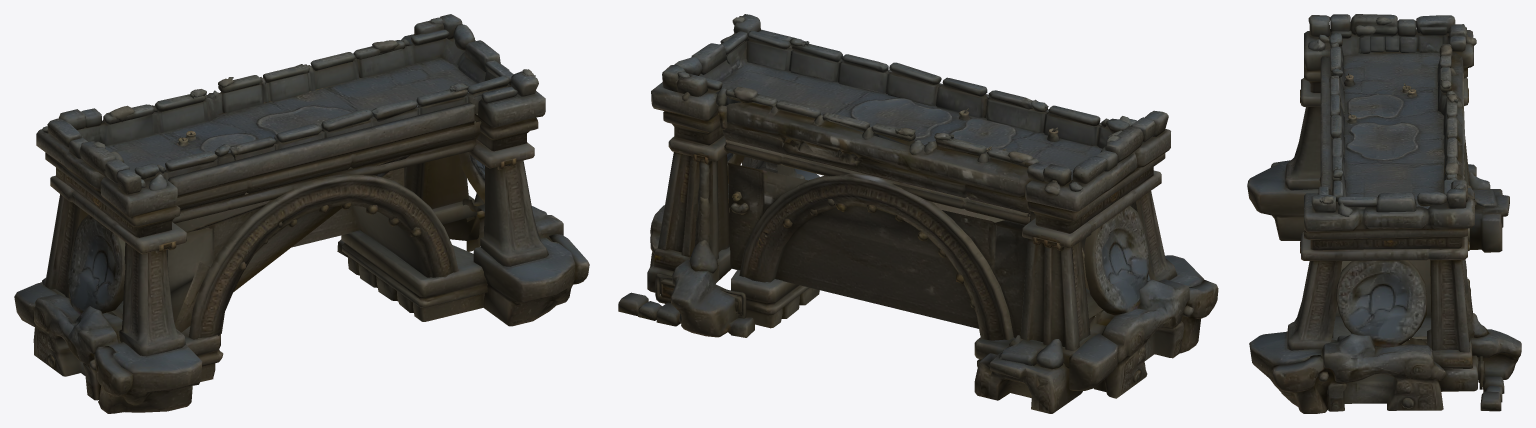
Rendered from ch3_massive_bridge_section_LOD0.glb.
3 renders of one model, left to right at view 1: azimuth 30°, elevation 25°; view 2: azimuth 150°, elevation 25°; view 3: azimuth 270°, elevation 25°, orthographic. The views are drawn at different scales.
Visible parts, largest first — view 1: tripo_node_51e6d6be-b1e7-401e-8ef0-a97a538cec37; view 2: tripo_node_51e6d6be-b1e7-401e-8ef0-a97a538cec37; view 3: tripo_node_51e6d6be-b1e7-401e-8ef0-a97a538cec37.
Part boxes in pixels (box(x1,y1,x2,y2)): tripo_node_51e6d6be-b1e7-401e-8ef0-a97a538cec37: box(14, 14, 589, 413); tripo_node_51e6d6be-b1e7-401e-8ef0-a97a538cec37: box(618, 14, 1218, 413); tripo_node_51e6d6be-b1e7-401e-8ef0-a97a538cec37: box(1247, 14, 1521, 413).
Size of the model in its own units: 0.998 by 0.4668 by 0.5488.
1 material, 1 textured.
